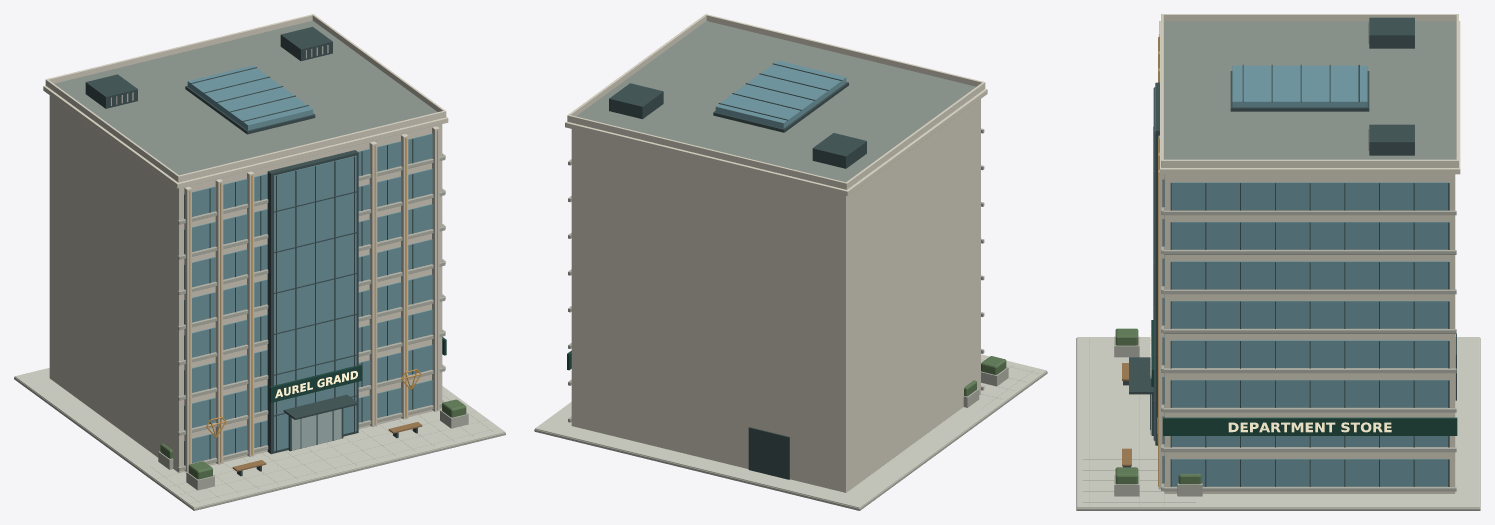
File: large-8x8-grand-department-09.glb
3 views of the same model, side by side, from view 1: azimuth 30°, elevation 25°; view 2: azimuth 150°, elevation 25°; view 3: azimuth 270°, elevation 25° (orthographic). The views are drawn at different scales.
Visible parts, largest first — view 1: MainDepartmentBody, RoofDeck, AtriumGlass, Plaza, Skylight, AtriumFrame, FrontGlass.004, FrontGlass.005, FrontGlass.003, FrontGlass.006, FrontGlass.007, FrontGlass.002 (+33 smaller); view 2: MainDepartmentBody, RoofDeck, Plaza, Skylight, RoofCornice, RoofParapet.003, RoofParapet.002, LoadingDoor, Lot, RoofPlant.001, RoofPlant, RoofParapet (+2 smaller); view 3: RoofDeck, MainDepartmentBody, Plaza, SideGlass.005, SideGlass.007, SideGlass.002, SideGlass.003, SideGlass.004, SideGlass.006, SideGlass, Skylight, SideBrandBand (+22 smaller).
Part boxes in pixels (box(x1,y1,x2,y2)): MainDepartmentBody: box(49, 95, 442, 472); RoofDeck: box(54, 20, 437, 175); AtriumGlass: box(273, 155, 356, 451); Plaza: box(14, 368, 505, 508); Skylight: box(187, 65, 312, 130); AtriumFrame: box(267, 150, 358, 454); FrontGlass.004: box(184, 239, 432, 323); FrontGlass.005: box(184, 204, 432, 288); FrontGlass.003: box(184, 274, 432, 358); FrontGlass.006: box(184, 169, 432, 253); FrontGlass.007: box(184, 133, 432, 218); FrontGlass.002: box(184, 309, 432, 394); MainDepartmentBody: box(571, 99, 980, 492); RoofDeck: box(576, 21, 975, 182); Plaza: box(535, 354, 1046, 508); Skylight: box(715, 60, 846, 128); RoofCornice: box(565, 89, 987, 196); RoofParapet.003: box(567, 115, 847, 189); RoofParapet.002: box(706, 14, 985, 88); LoadingDoor: box(748, 427, 789, 479); Lot: box(534, 371, 1047, 510); RoofPlant.001: box(609, 83, 663, 119); RoofPlant: box(812, 133, 866, 168); RoofParapet: box(845, 82, 984, 189); RoofDeck: box(1163, 21, 1456, 159); MainDepartmentBody: box(1164, 174, 1455, 493); Plaza: box(1077, 337, 1479, 508); SideGlass.005: box(1171, 261, 1448, 289); SideGlass.007: box(1171, 182, 1448, 210); SideGlass.002: box(1171, 380, 1448, 407); SideGlass.003: box(1171, 340, 1448, 367); SideGlass.004: box(1171, 301, 1448, 328); SideGlass.006: box(1171, 222, 1448, 249); SideGlass: box(1171, 459, 1448, 486); Skylight: box(1232, 65, 1367, 107); SideBrandBand: box(1163, 417, 1457, 435).
Bounding box in the file's own units: 32 × 30.22 × 32.
